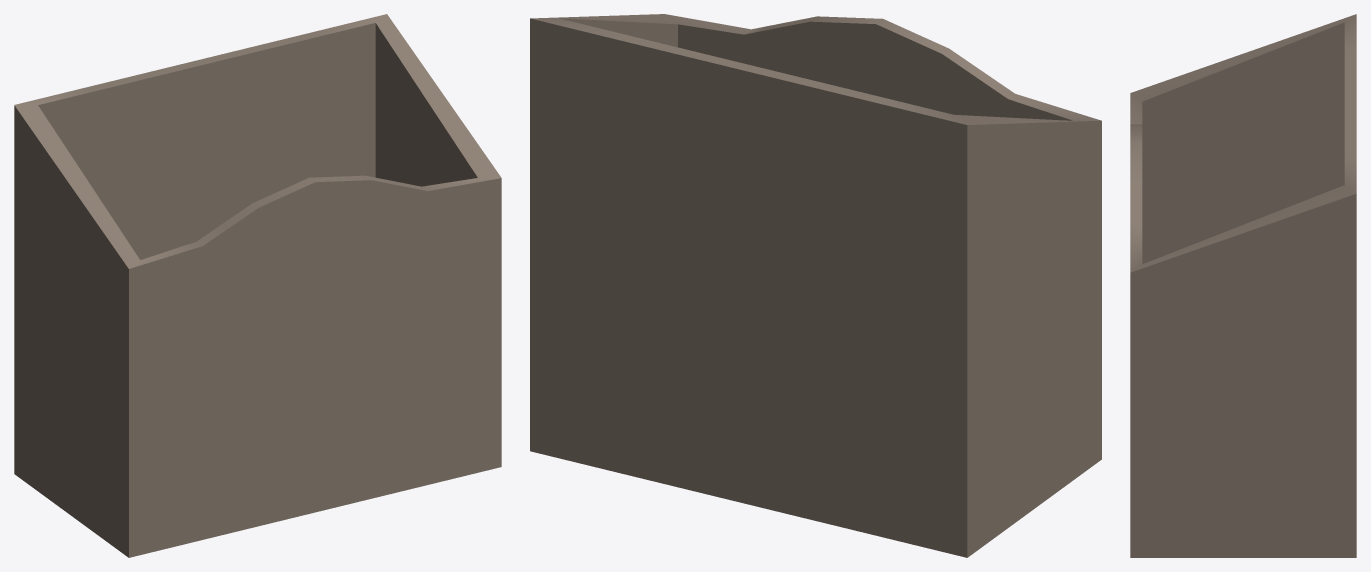
Rendered from PD_PenHolder2_15_DF.fbx.
3 views of the same model, side by side, from view 1: azimuth 30°, elevation 25°; view 2: azimuth 150°, elevation 25°; view 3: azimuth 270°, elevation 25° (orthographic). The views are drawn at different scales.
Visible parts, largest first — view 1: PenHolder2; view 2: PenHolder2; view 3: PenHolder2.
Part boxes in pixels (x1,y1,x2,y2): PenHolder2: (14,14,501,557); PenHolder2: (530,14,1101,557); PenHolder2: (1130,14,1356,557).
Bounding box in the file's own units: 0.0846 × 0.08 × 0.0451.
